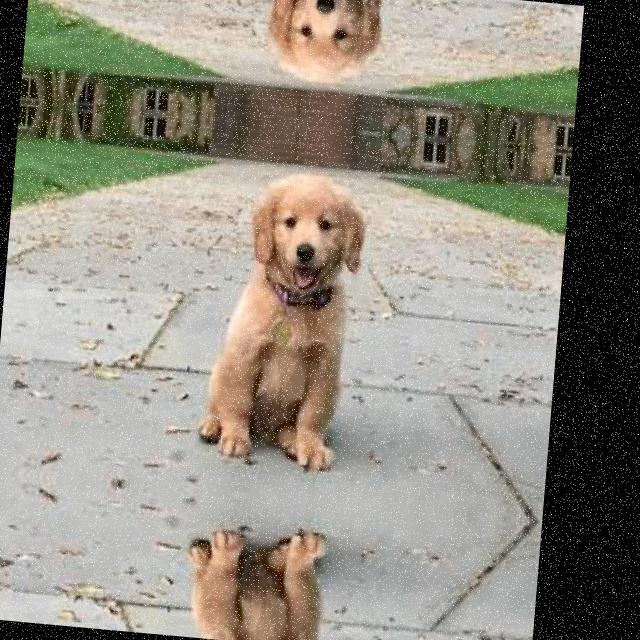dog: (190, 161, 377, 478), (176, 516, 348, 640), (222, 0, 393, 91)
